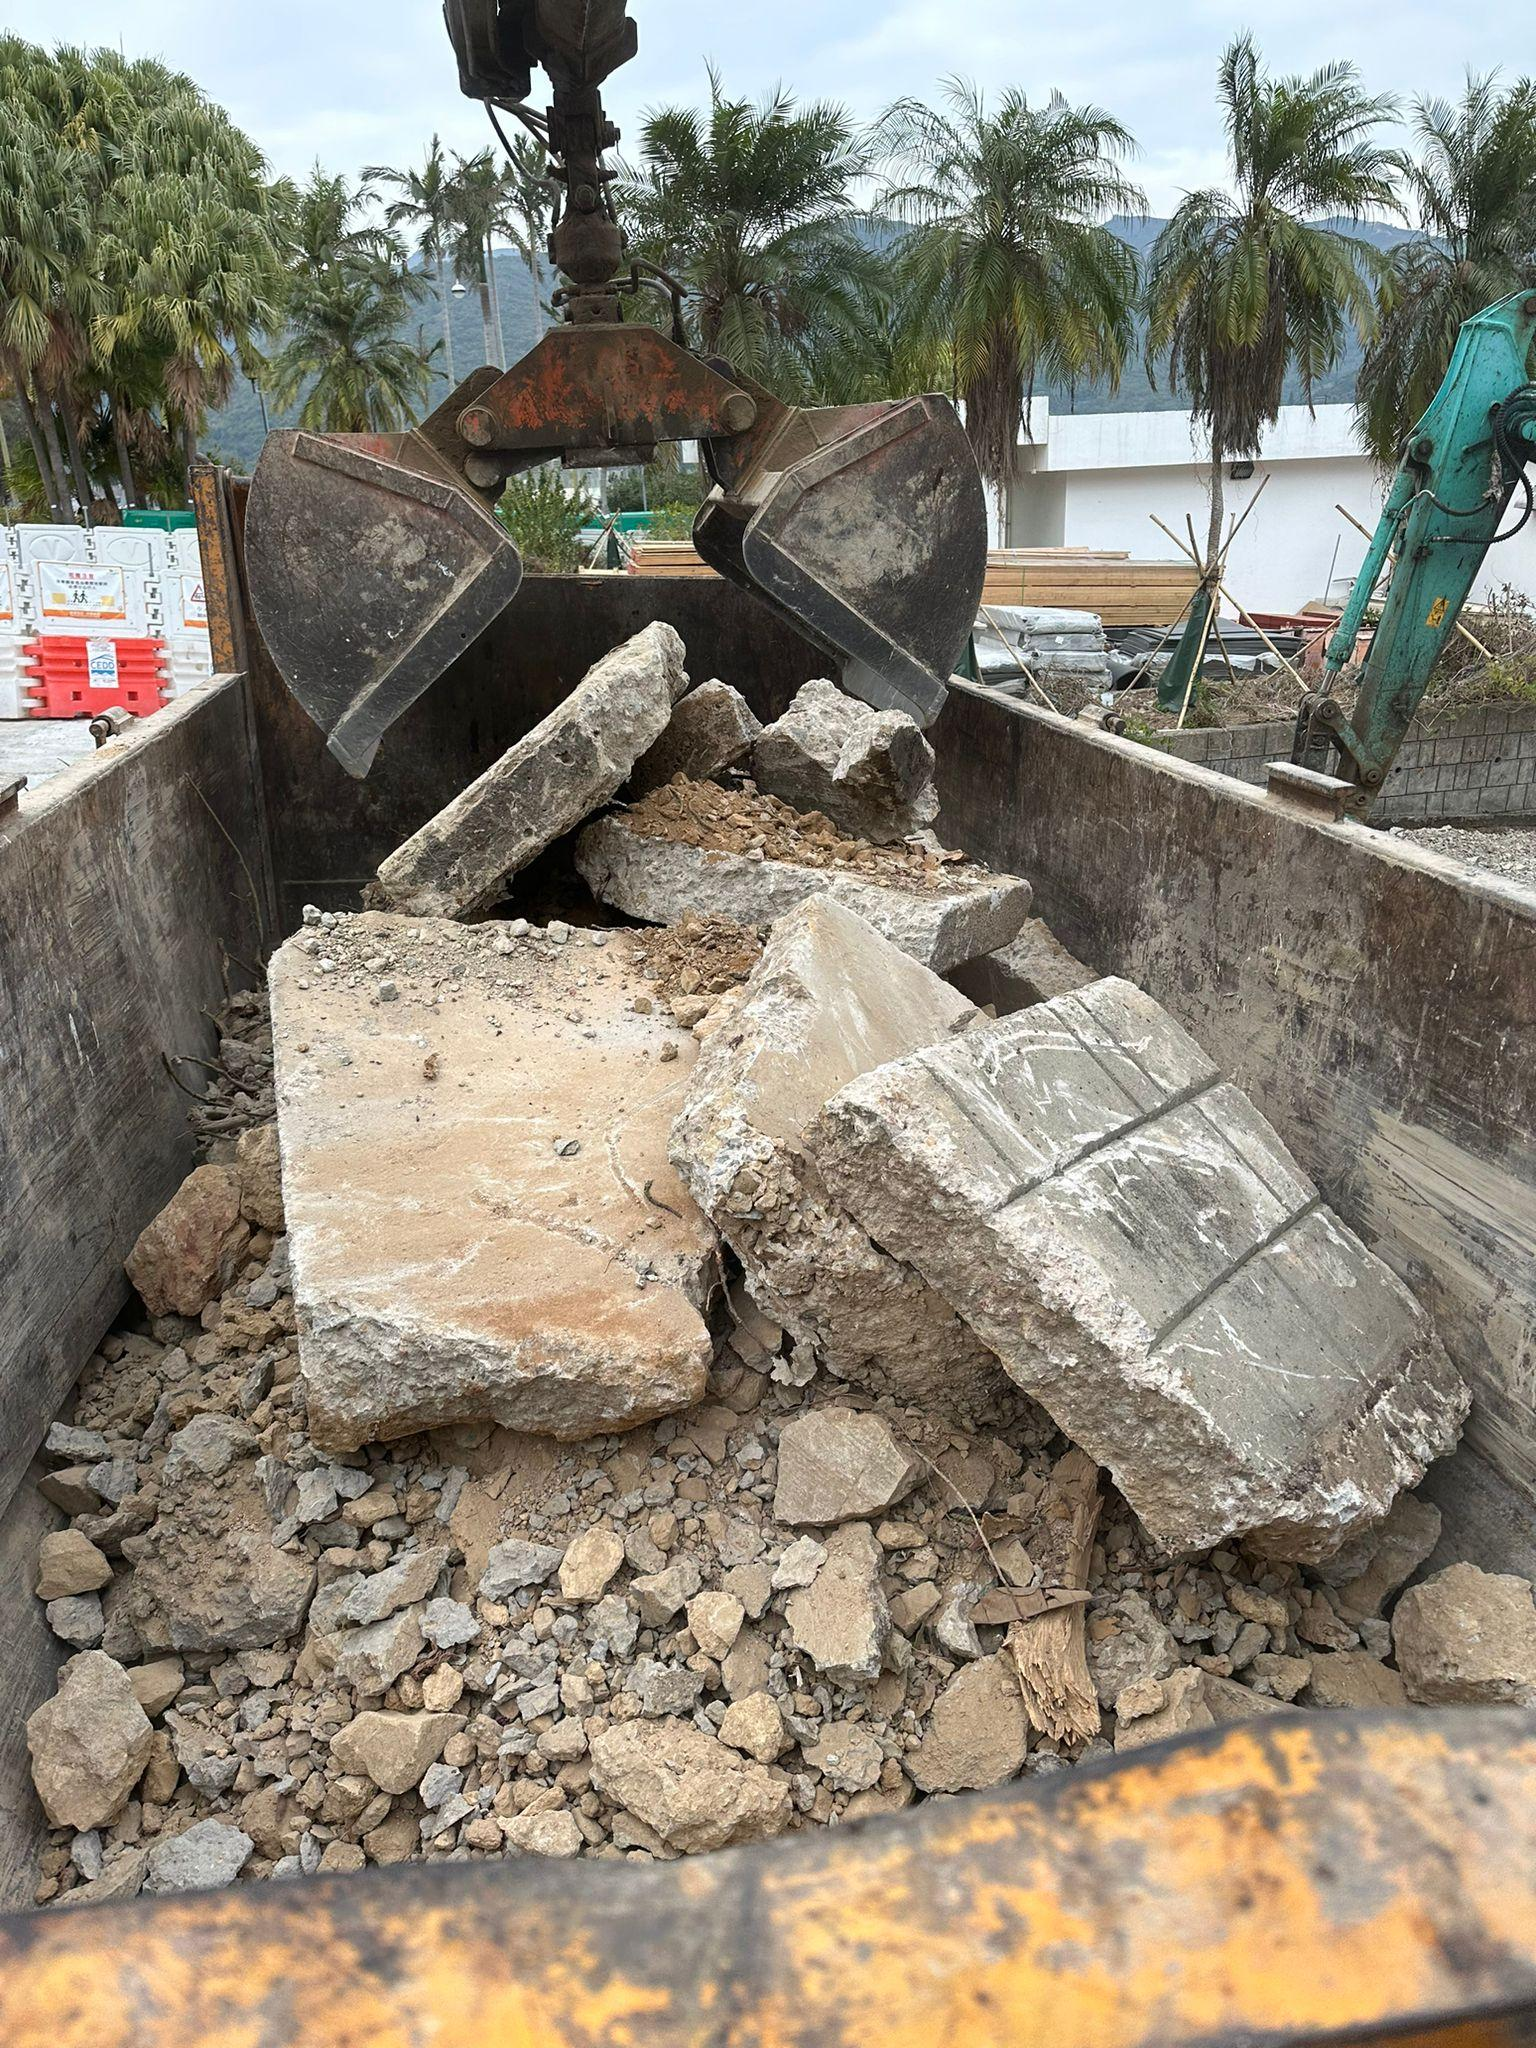dry: (60, 643, 1480, 1880)
